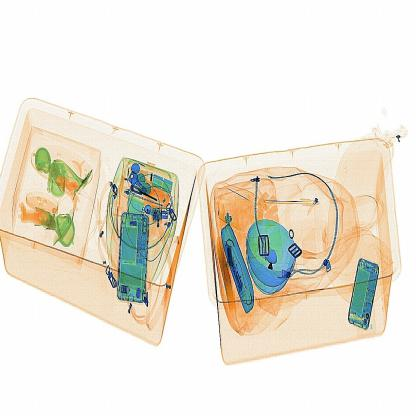wrench: (258, 195, 320, 211)
